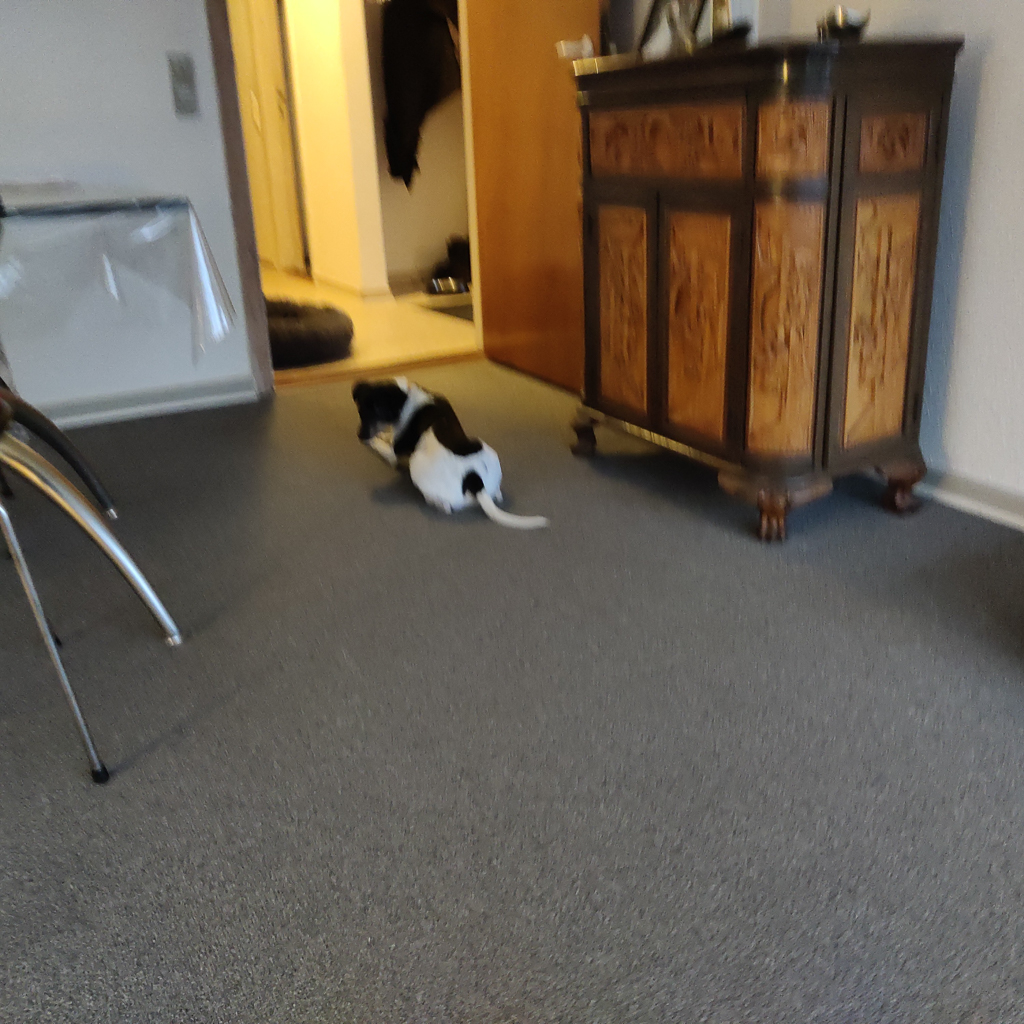Dog: (337, 364, 562, 541)
